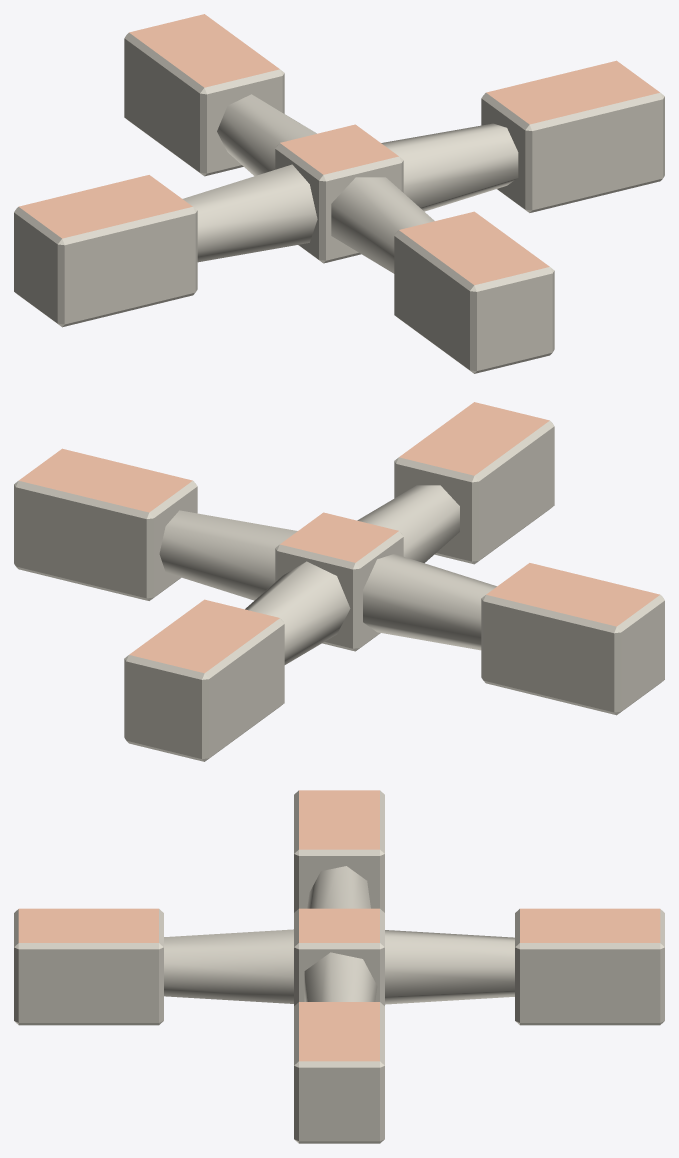
The model's file is R4C_ROD_PLUS_LOD1.fbx.
3 views of the same model, one above another, from view 1: azimuth 30°, elevation 25°; view 2: azimuth 150°, elevation 25°; view 3: azimuth 270°, elevation 25° (orthographic). The views are drawn at different scales.
Visible parts, largest first — view 1: R4C_ROD_PLUS_LOD1; view 2: R4C_ROD_PLUS_LOD1; view 3: R4C_ROD_PLUS_LOD1.
Part boxes in pixels (x1,y1,x2,y2): R4C_ROD_PLUS_LOD1: (14, 14, 664, 373); R4C_ROD_PLUS_LOD1: (14, 402, 664, 761); R4C_ROD_PLUS_LOD1: (14, 790, 664, 1143).
Size of the model in its own units: 1.62 by 0.226 by 1.62.
